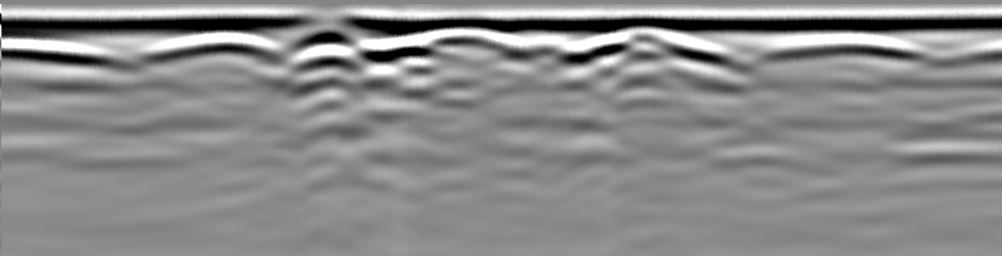pipe: (286, 13, 361, 33)
steel: (574, 32, 734, 65), (762, 34, 927, 60), (146, 32, 286, 62), (2, 35, 121, 68), (398, 31, 525, 55)
